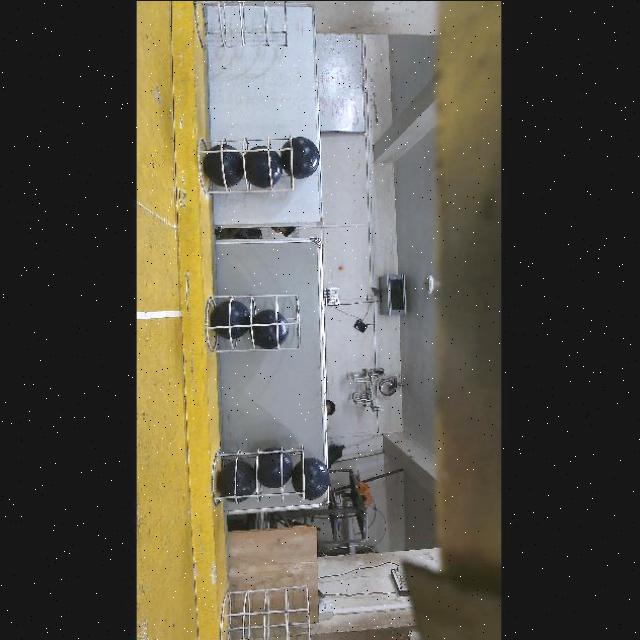P: (291, 456, 330, 499), (281, 136, 320, 178), (218, 462, 256, 502), (204, 144, 242, 183), (213, 301, 251, 337), (248, 146, 282, 184), (252, 308, 286, 346), (259, 446, 291, 486)
S: (195, 292, 301, 353), (199, 136, 301, 194), (222, 584, 316, 640), (212, 446, 306, 500), (195, 1, 292, 52)
